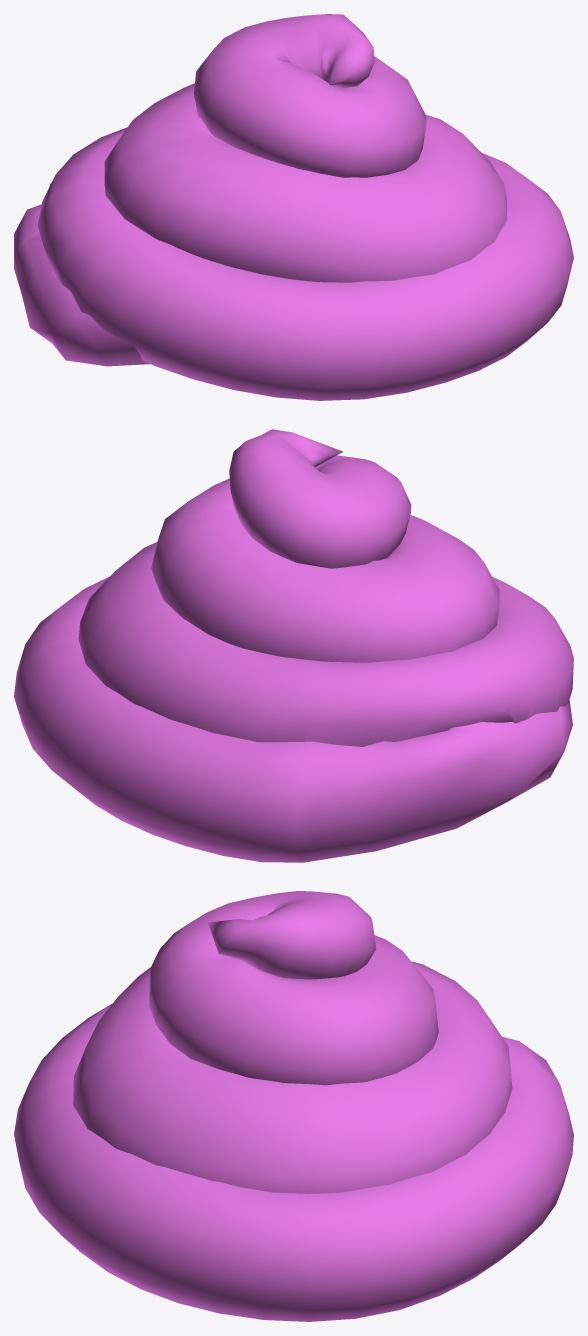
File: Mama-v1.2.fbx
3 views of the same model, one above another, from view 1: azimuth 30°, elevation 25°; view 2: azimuth 150°, elevation 25°; view 3: azimuth 270°, elevation 25° (orthographic). The views are drawn at different scales.
Parts seen in each view (by area): view 1: BezierCurve; view 2: BezierCurve; view 3: BezierCurve.
Part boxes in pixels (x1,y1,x2,y2): BezierCurve: (14,14,573,400); BezierCurve: (14,429,573,862); BezierCurve: (14,891,573,1321).
Bounding box in the file's own units: 275 × 161 × 253.
